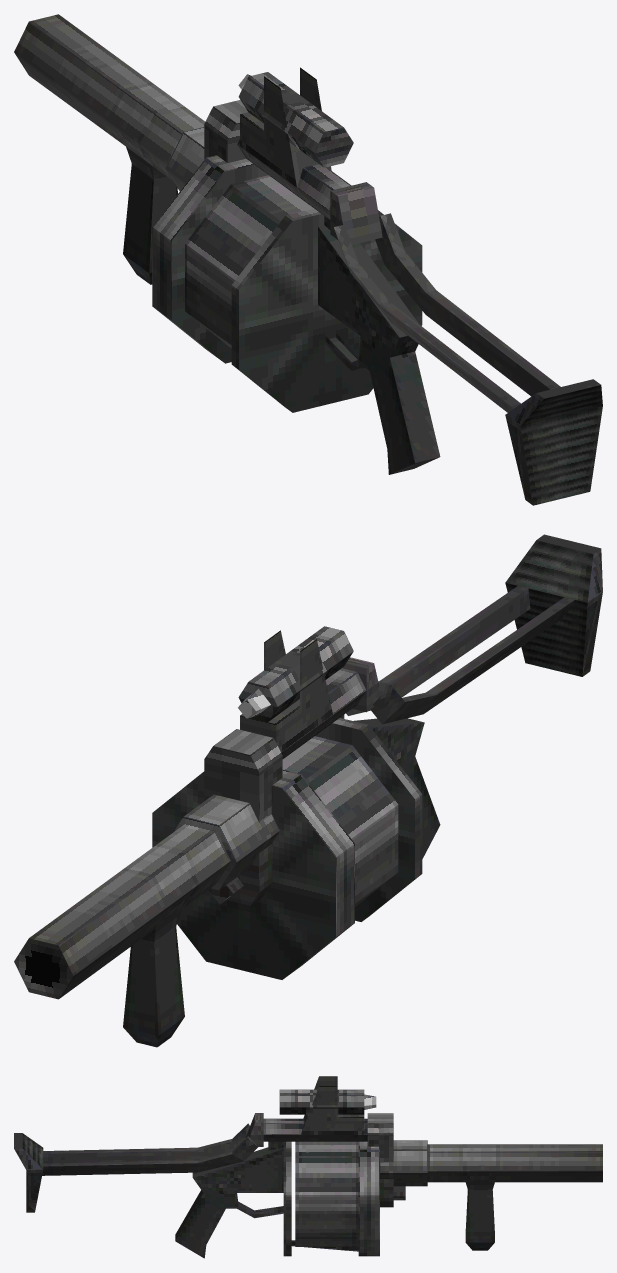
The model's file is recovered_gun_mglmk1.glb.
3 renders of one model, top to bottom at view 1: azimuth 30°, elevation 25°; view 2: azimuth 150°, elevation 25°; view 3: azimuth 270°, elevation 25°, orthographic. The views are drawn at different scales.
Parts seen in each view (by area): view 1: Gun_b13d6834534a, Gun_dad5611c258e, Gun_31b187818ed4; view 2: Gun_b13d6834534a, Gun_dad5611c258e, Gun_31b187818ed4, Gun_0a7a76e0af90; view 3: Gun_b13d6834534a, Gun_31b187818ed4.
Part boxes in pixels (x1=…): Gun_b13d6834534a: x1=14, y1=14, x2=600, y2=505; Gun_dad5611c258e: x1=171, y1=164, x2=422, y2=412; Gun_31b187818ed4: x1=520, y1=385, x2=602, y2=505; Gun_b13d6834534a: x1=29, y1=534, x2=602, y2=1047; Gun_dad5611c258e: x1=152, y1=723, x2=414, y2=979; Gun_31b187818ed4: x1=505, y1=540, x2=593, y2=676; Gun_0a7a76e0af90: x1=14, y1=938, x2=73, y2=999; Gun_b13d6834534a: x1=14, y1=1076, x2=602, y2=1258; Gun_31b187818ed4: x1=22, y1=1133, x2=43, y2=1169.
Size of the model in its own units: 0.165 by 0.2688 by 0.824.
4 materials, 4 textured.
